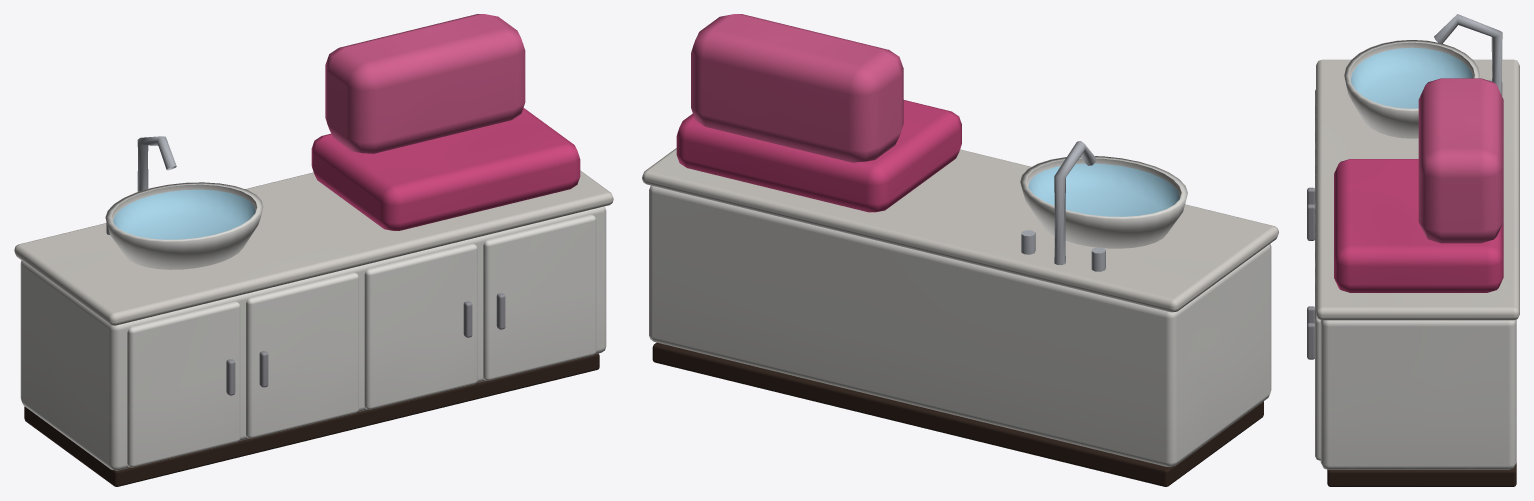
The model's file is furn_salon_sink.glb.
The picture shows the model from 3 angles, left to right: view 1: azimuth 30°, elevation 25°; view 2: azimuth 150°, elevation 25°; view 3: azimuth 270°, elevation 25°; orthographic projection. The views are drawn at different scales.
Parts seen in each view (by area): view 1: furn_salon_sink_main, furn_salon_sink_gloss; view 2: furn_salon_sink_main, furn_salon_sink_gloss; view 3: furn_salon_sink_main, furn_salon_sink_gloss.
Part boxes in pixels (<box>): furn_salon_sink_main: <box>14,14,613,486</box>; furn_salon_sink_gloss: <box>113,189,255,239</box>; furn_salon_sink_main: <box>642,14,1278,486</box>; furn_salon_sink_gloss: <box>1028,163,1179,216</box>; furn_salon_sink_main: <box>1307,14,1519,486</box>; furn_salon_sink_gloss: <box>1351,47,1472,108</box>.
Bounding box in the file's own units: 1.83 × 1.08 × 0.652.
